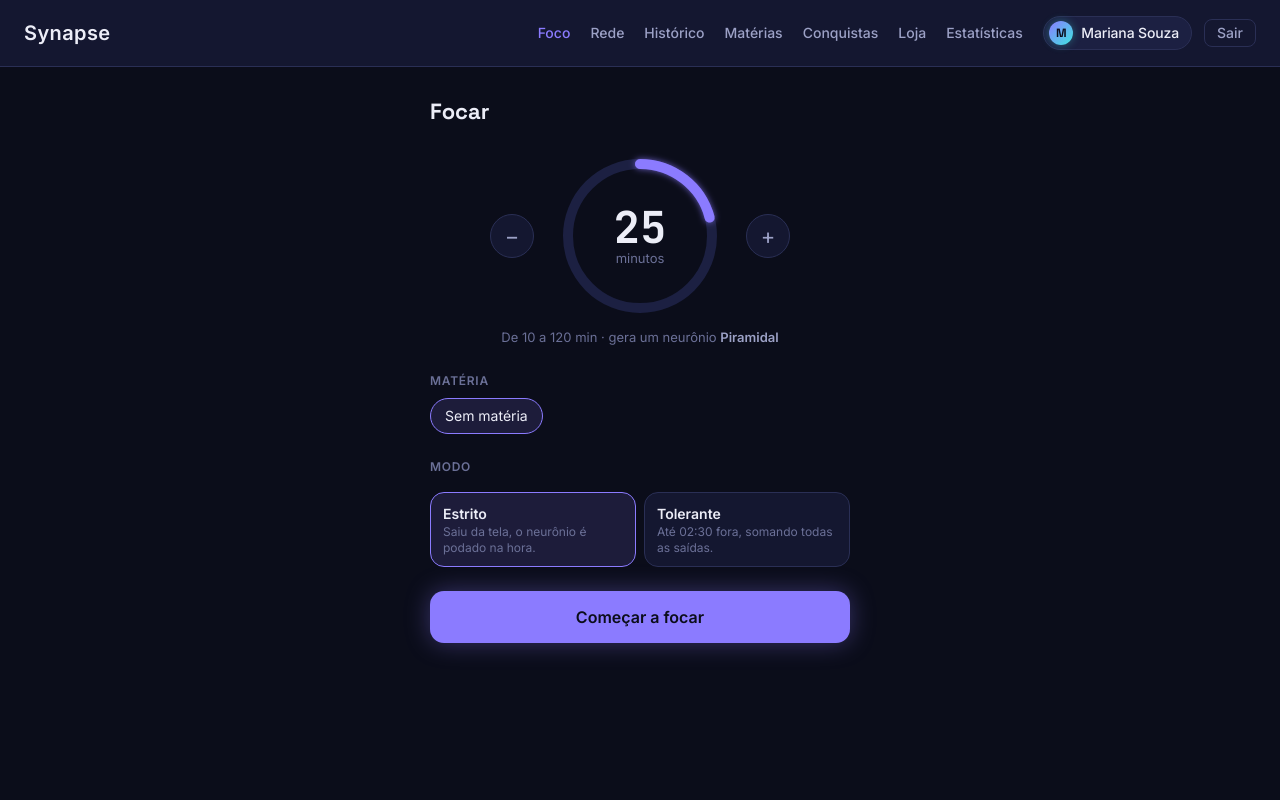
Scenario: rotas e proteção de acesso › usuário autenticado › permite deslogar através do botão Sair e redireciona para /login
What coordinates should you click on to do the following:
click the button "Sair"
I would click on:
 (1230, 33)
Its box is [1204, 19, 1256, 47].
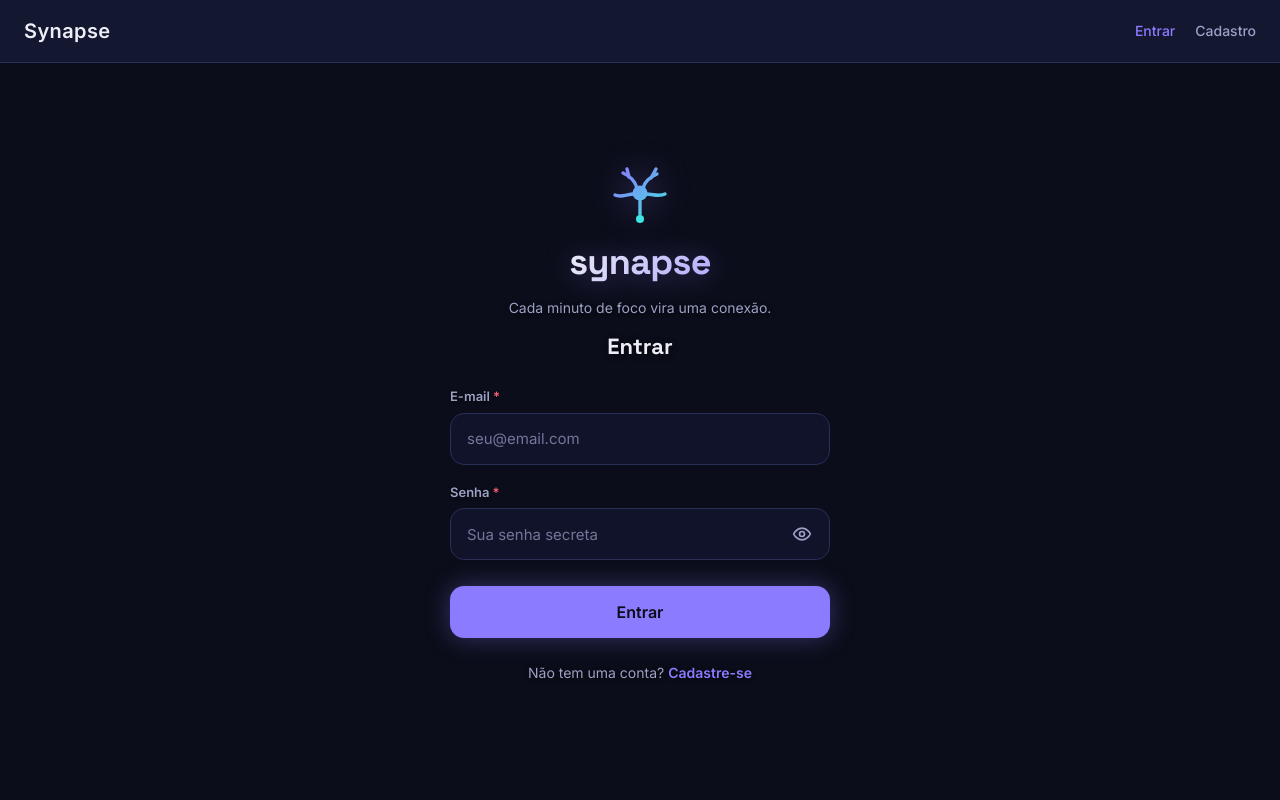
Check: the heading "Entrar" is shown, box [607, 332, 673, 360]
